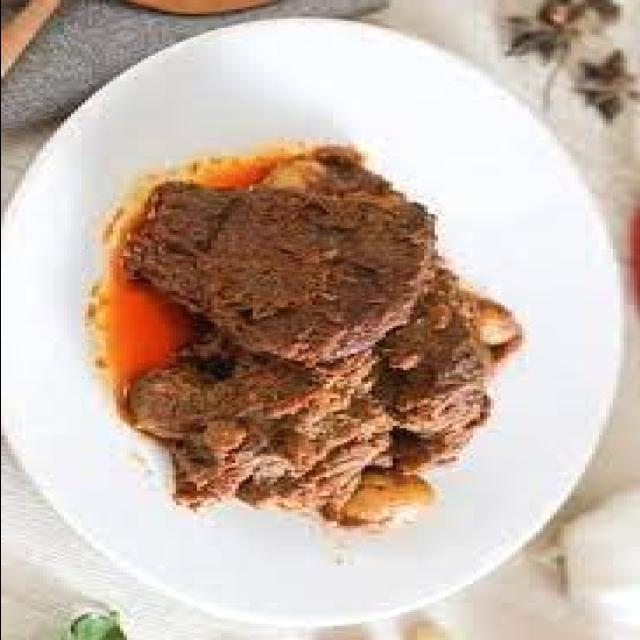rendang: (98, 142, 518, 528)
